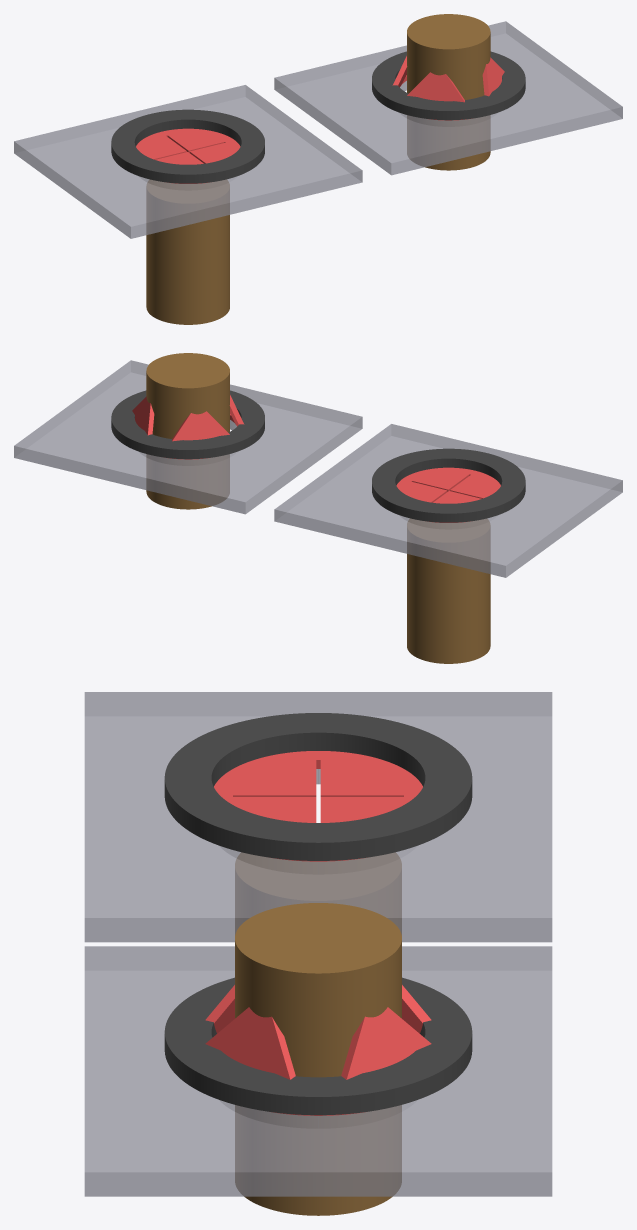
3 renders of one model, top to bottom at view 1: azimuth 30°, elevation 25°; view 2: azimuth 150°, elevation 25°; view 3: azimuth 270°, elevation 25°, orthographic. The views are drawn at different scales.
Visible parts, largest first — view 1: lid_closed, lid_open, pod_waiting, pod_lifting, snap_ring_closed, snap_ring_open, membrane_closed, membrane_petals_open; view 2: lid_closed, lid_open, pod_waiting, pod_lifting, snap_ring_closed, snap_ring_open, membrane_closed, membrane_petals_open; view 3: lid_open, lid_closed, pod_lifting, snap_ring_closed, snap_ring_open, membrane_closed, pod_waiting, membrane_petals_open.
Boxes of the visible parts, x1,y1,x2,y2 form: lid_closed: (14, 85, 362, 238); lid_open: (274, 21, 622, 175); pod_waiting: (146, 180, 229, 324); pod_lifting: (407, 14, 490, 170); snap_ring_closed: (111, 109, 264, 183); snap_ring_open: (372, 51, 525, 120); membrane_closed: (136, 128, 240, 183); membrane_petals_open: (392, 56, 504, 102); lid_closed: (274, 424, 622, 577); lid_open: (14, 360, 362, 514); pod_waiting: (407, 519, 490, 663); pod_lifting: (146, 353, 229, 509); snap_ring_closed: (372, 448, 525, 522); snap_ring_open: (111, 390, 264, 459); membrane_closed: (396, 467, 500, 522); membrane_petals_open: (132, 395, 244, 441); lid_open: (84, 946, 552, 1196); lid_closed: (84, 692, 552, 942); pod_lifting: (235, 903, 401, 1215); snap_ring_closed: (164, 713, 472, 860); snap_ring_open: (164, 977, 472, 1115); membrane_closed: (214, 751, 422, 861); pod_waiting: (235, 852, 401, 933); membrane_petals_open: (205, 985, 431, 1079).
Size of the model in its own units: 170 by 70 by 70.
